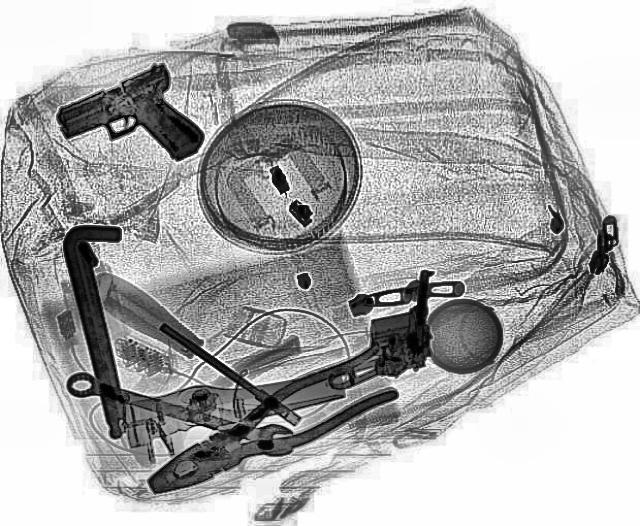Gun: (40, 59, 222, 191), (329, 269, 431, 387)
Pliers: (126, 337, 417, 512)
Wrench: (58, 362, 304, 460)
